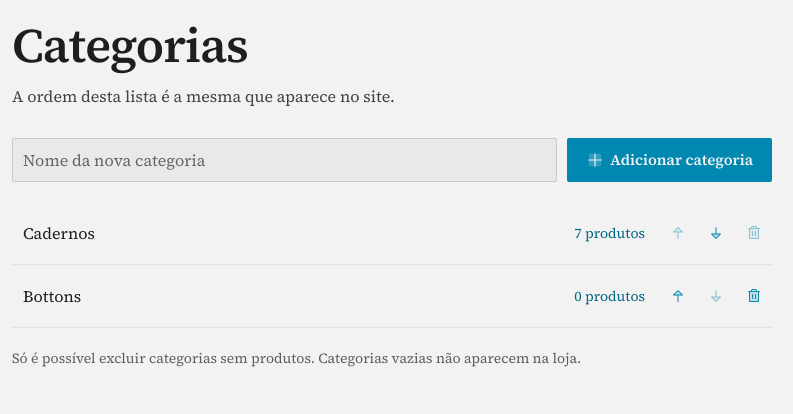
it: CategoriesPanel › shows the duplicate-name error from the API
In the field with placeholder "Nome da nova categoria": (285, 160) [12,138,557,182], type "bottons"
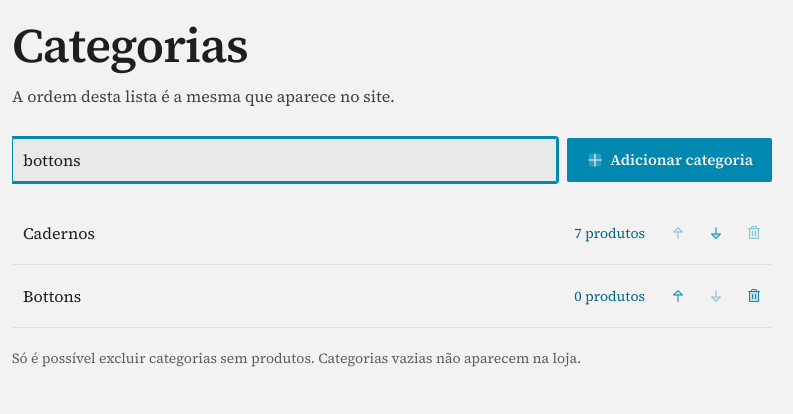
Click the button "Adicionar categoria": click(670, 160) [567,138,772,182]
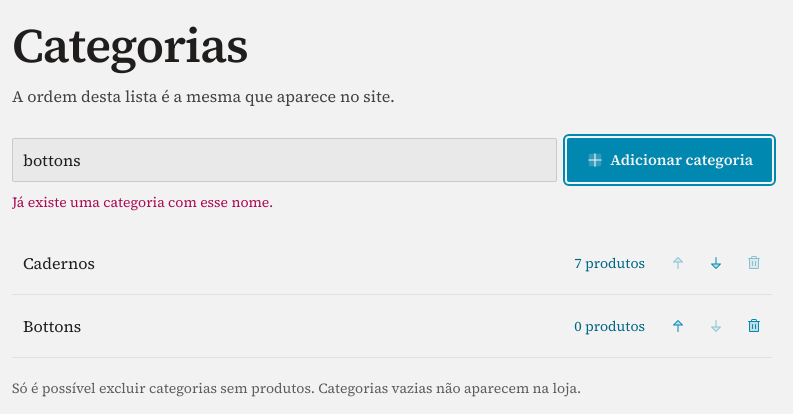
Expected: the text "Já existe uma categoria com esse nome." is shown, [12,192,273,212]
